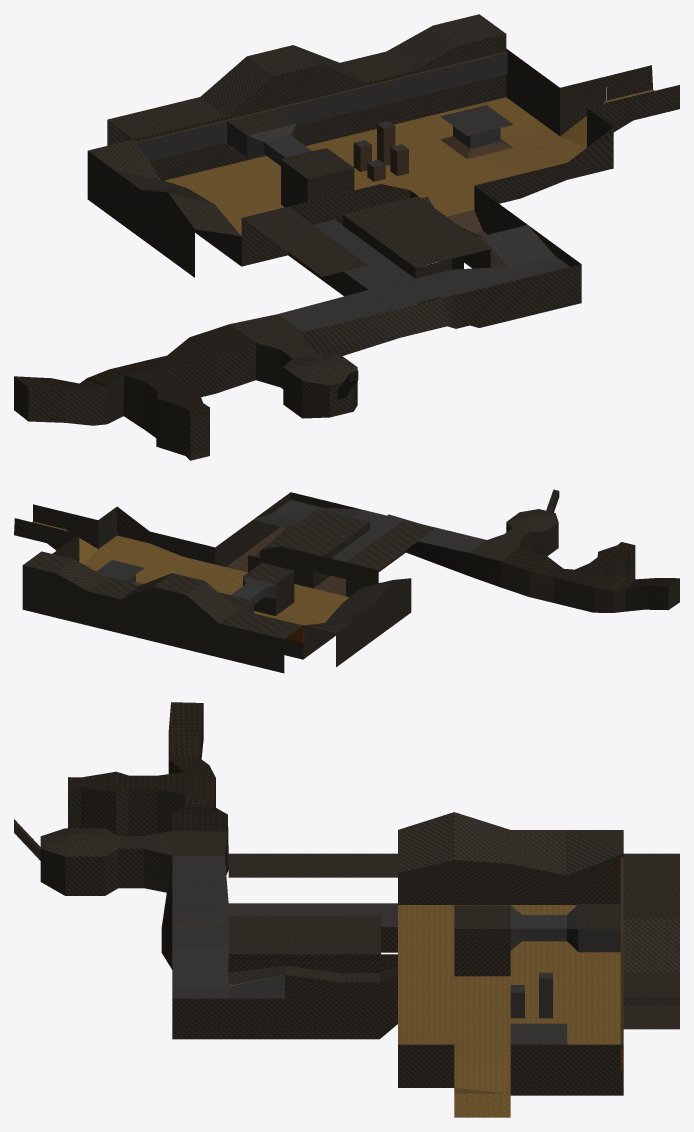
File: test_lighting.obj
The picture shows the model from 3 angles, top to bottom: view 1: azimuth 30°, elevation 25°; view 2: azimuth 150°, elevation 25°; view 3: azimuth 270°, elevation 25°; orthographic projection. The views are drawn at different scales.
Parts seen in each view (by area): view 1: test_lighting; view 2: test_lighting; view 3: test_lighting.
Boxes of the visible parts, left/top/right/bottom form: test_lighting: left=14, top=14, right=679, bottom=460; test_lighting: left=14, top=489, right=679, bottom=673; test_lighting: left=14, top=702, right=679, bottom=1117.
Bounding box in the file's own units: 169 × 21.83 × 118.
